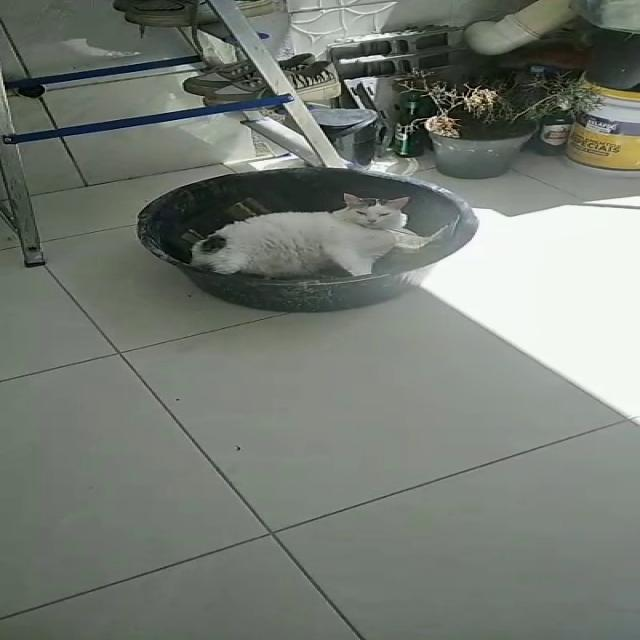Simba: (187, 186, 500, 280)
